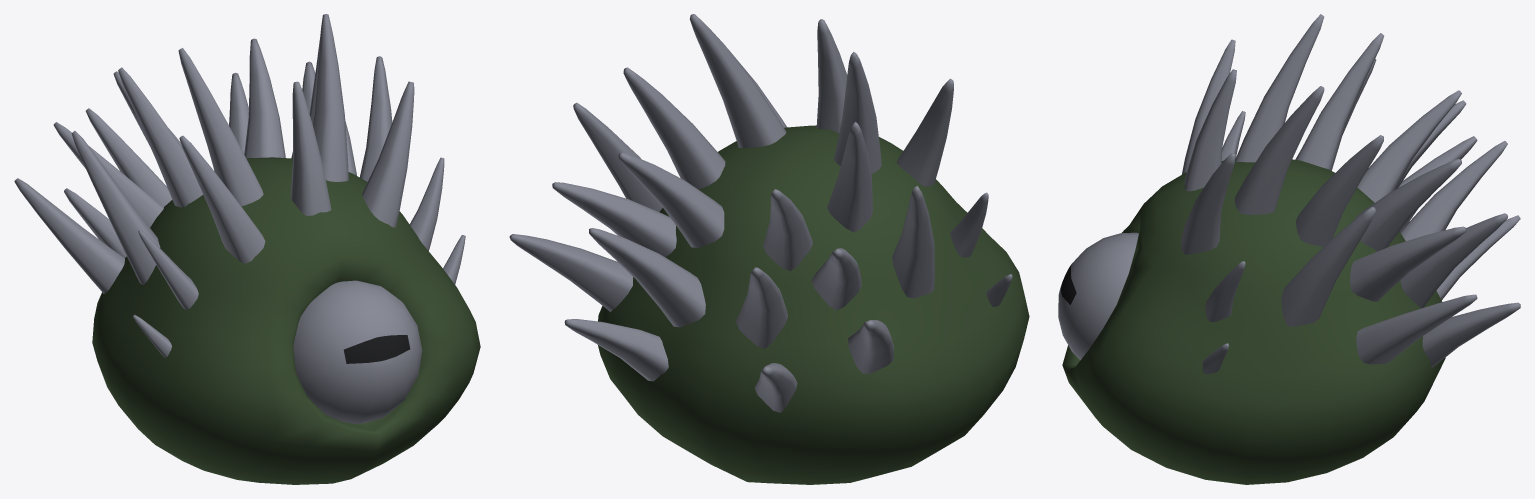
File: q_green_spiky_blob.glb
3 views of the same model, side by side, from view 1: azimuth 30°, elevation 25°; view 2: azimuth 150°, elevation 25°; view 3: azimuth 270°, elevation 25° (orthographic). The views are drawn at different scales.
Visible parts, largest first — view 1: GreenSpiky_Blob_b; view 2: GreenSpiky_Blob_b; view 3: GreenSpiky_Blob_b.
Part boxes in pixels (box(x1,y1,x2,y2)): GreenSpiky_Blob_b: box(14, 14, 480, 484); GreenSpiky_Blob_b: box(509, 14, 1029, 484); GreenSpiky_Blob_b: box(1058, 14, 1520, 484).
Bounding box in the file's own units: 0.8443 × 1 × 1.
